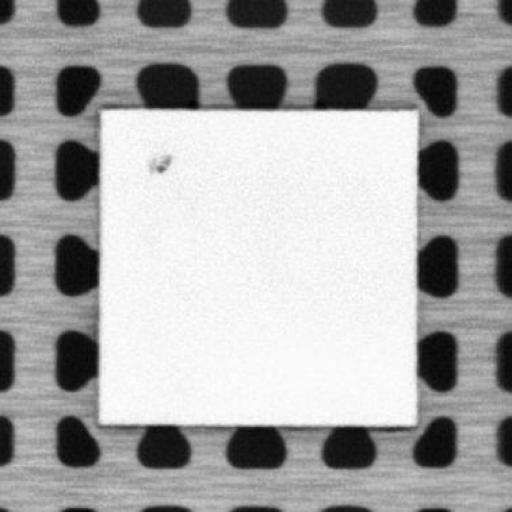DIE_INK: (149, 153, 172, 170)
